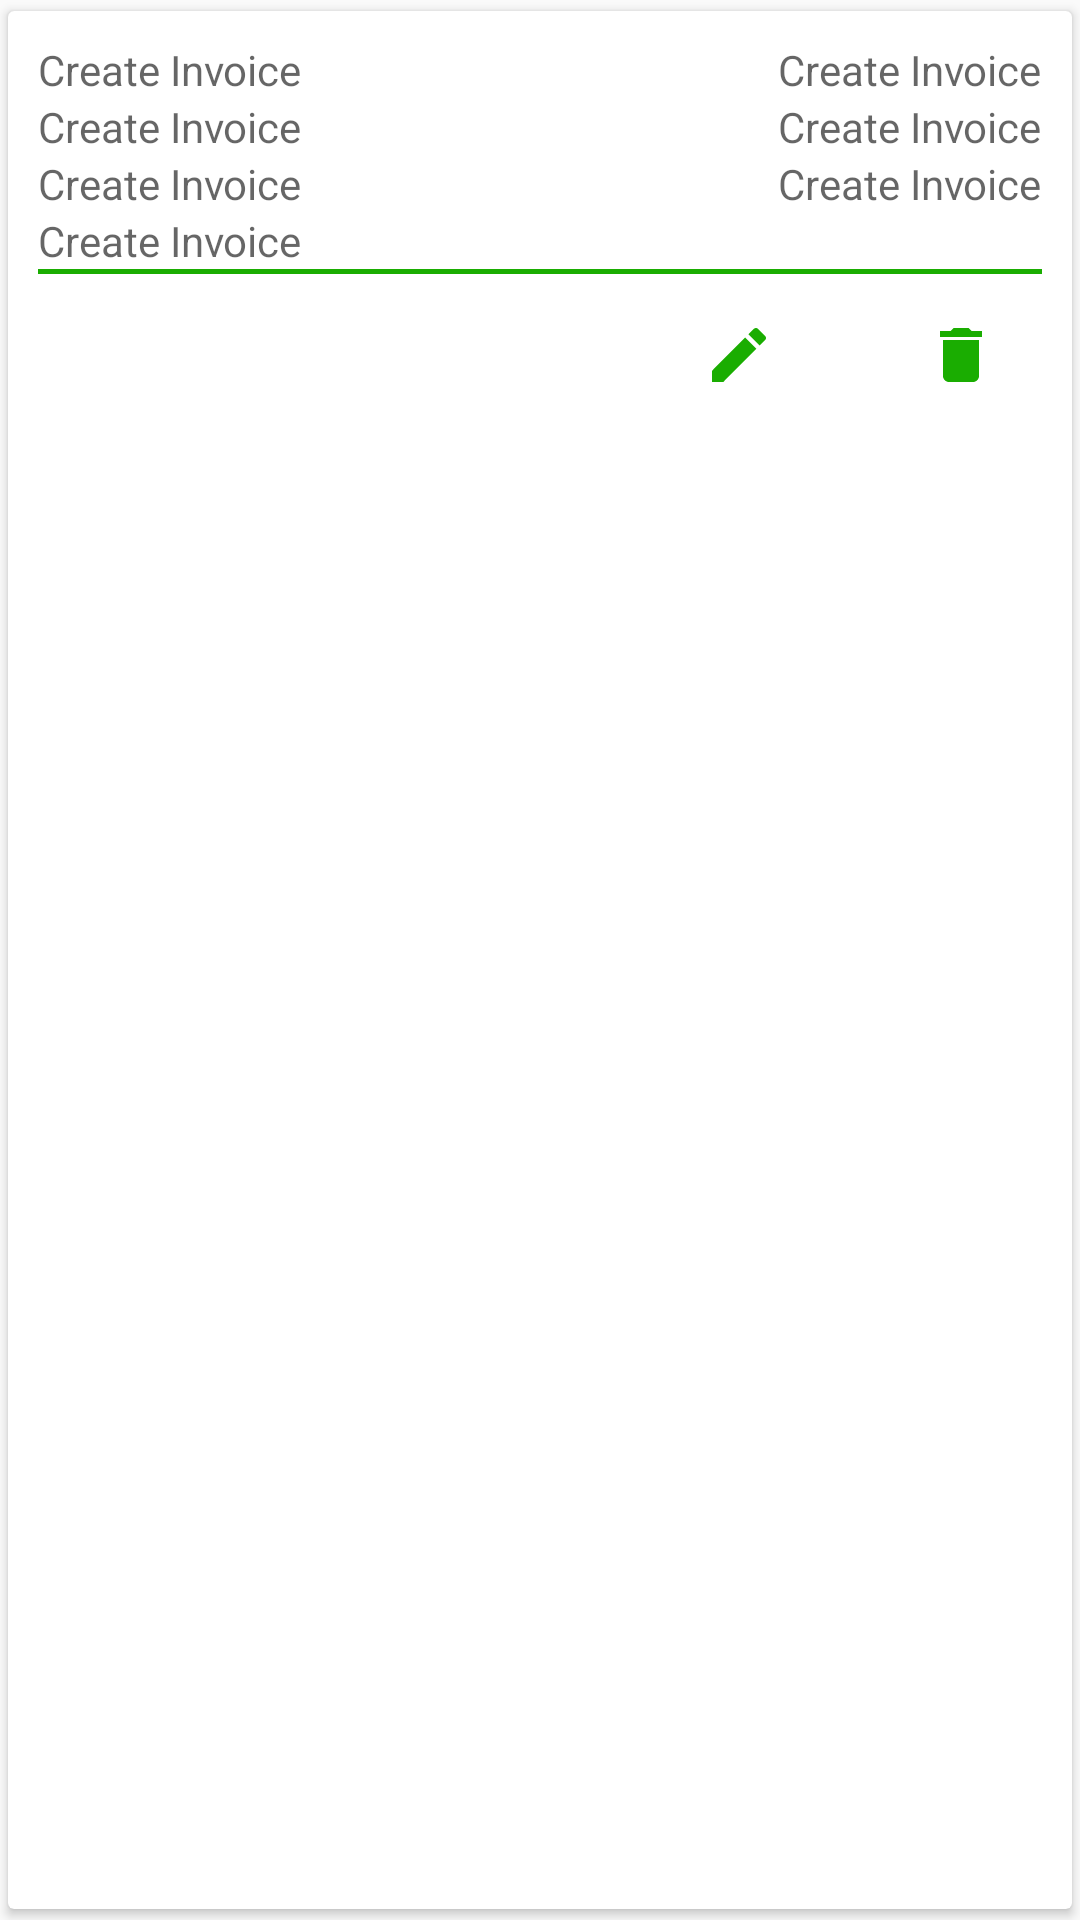

Icon bounding boxes for this 1080*1920 phone screenshot, format (x1, y1, x2, y2):
delete: (940, 328, 982, 382)
edit: (712, 328, 766, 382)
